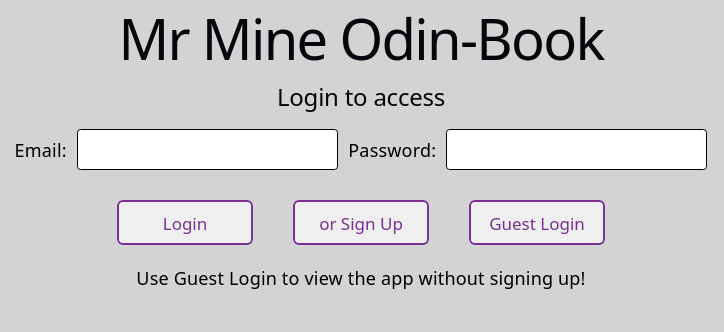
Test: Login component › handles invalid JSON without authenticating
The image size is (724, 332).
What coordinates should you click on to do the following:
click the button "Login"
I would click on:
 (185, 222)
Its box is [117, 200, 253, 245].
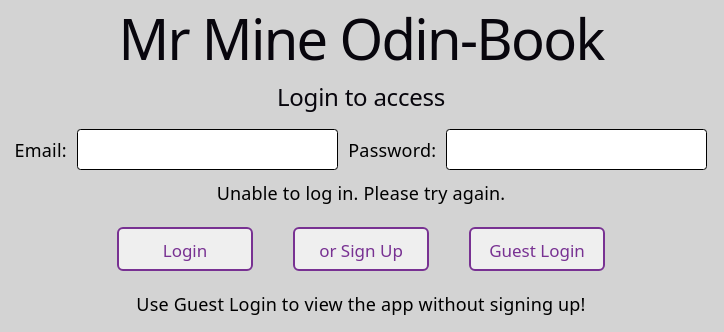
Expected: the button "Login" is enabled, [117, 226, 253, 271]
Now the message reads "Unable to log in. Please try again.", box [217, 181, 505, 205]
